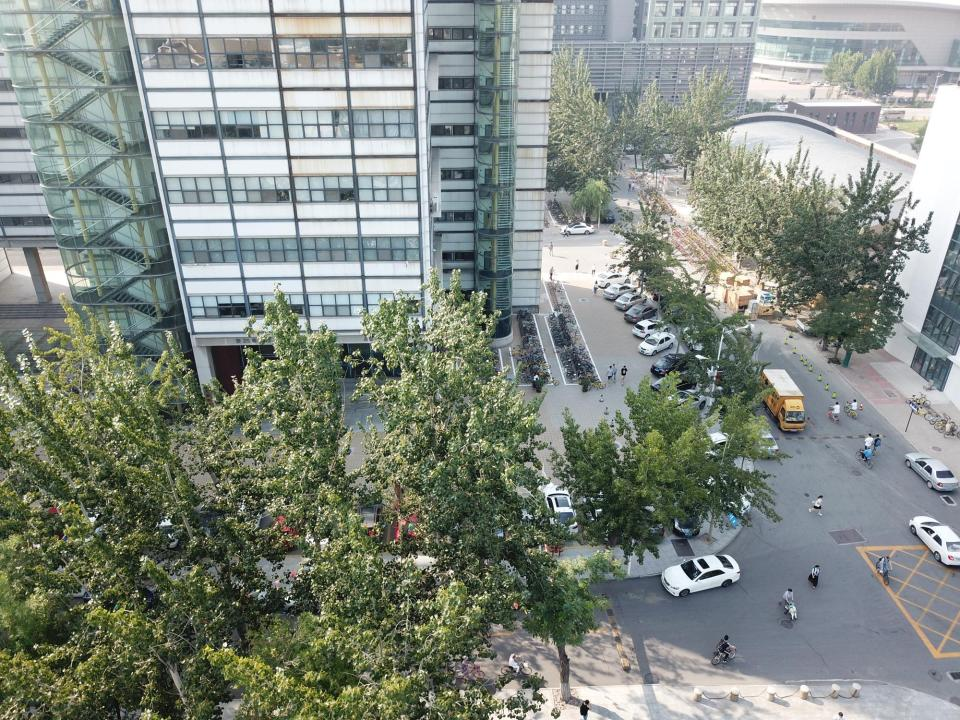bus: (879, 108, 905, 120)
car: (661, 554, 740, 596), (910, 516, 959, 566), (583, 493, 627, 543), (698, 475, 751, 516), (905, 453, 959, 492), (394, 497, 438, 544), (689, 430, 743, 464), (543, 484, 578, 536), (280, 589, 352, 614), (268, 507, 306, 550), (71, 505, 106, 551), (34, 506, 70, 550), (150, 508, 186, 550), (632, 495, 665, 538), (670, 495, 700, 537), (354, 503, 384, 544), (650, 374, 698, 399), (664, 389, 706, 416), (650, 353, 693, 379), (234, 496, 262, 532), (749, 426, 779, 458), (638, 332, 676, 356), (480, 510, 504, 543), (632, 319, 669, 339), (682, 327, 712, 351), (624, 303, 658, 323), (636, 258, 664, 282), (613, 292, 647, 310), (603, 282, 637, 300), (595, 271, 631, 288), (659, 301, 686, 323), (646, 284, 672, 301), (560, 222, 594, 235), (598, 208, 616, 224), (619, 144, 638, 152), (841, 88, 857, 94), (771, 105, 785, 111), (901, 84, 912, 89), (919, 83, 928, 89), (811, 81, 820, 87), (911, 83, 920, 88), (824, 81, 830, 87), (898, 84, 902, 90)
truck: (760, 369, 810, 433), (796, 311, 860, 335), (787, 78, 802, 84)
